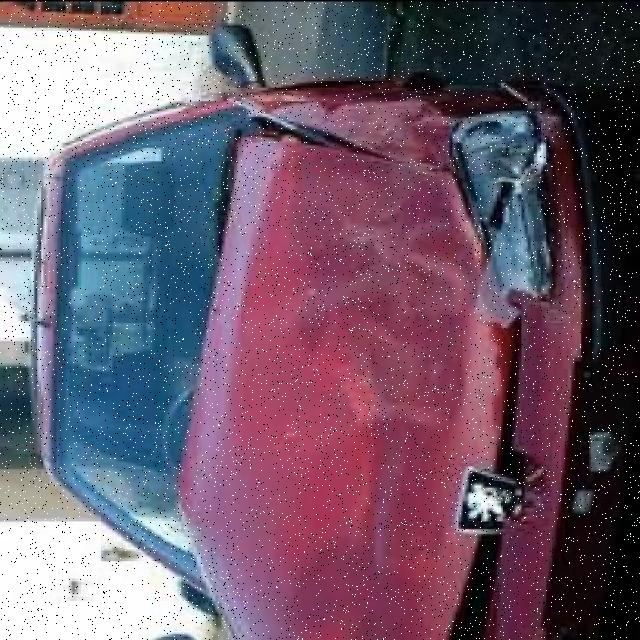damage: (180, 81, 566, 636)
